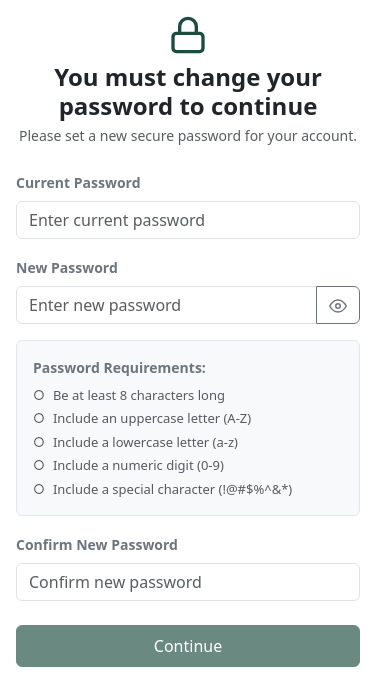
it: ChangePassword Component Tests (UI-03, UI-03b) › UI-03: Real-time password checklist updates checkmarks as password criteria are met
Expected: the element with test id "password-checklist" is shown, x1=16 y1=340 x2=360 y2=516
Expected: the button with test id "change-password-submit-button" is disabled, x1=16 y1=625 x2=360 y2=667
Note: Type 8 chars with upper, lower, number, special: "Password123!"
Type "Password123!" into the password field labelled "New Password" at (166, 305), box x1=16 y1=286 x2=317 y2=324
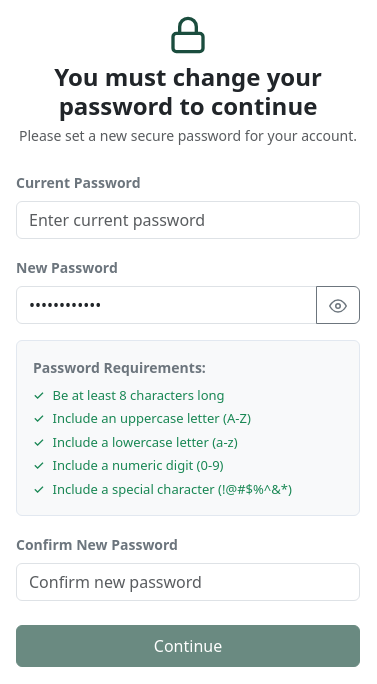
Now the list item with test id "rule-min-length" shows "✓", box x1=33 y1=386 x2=44 y2=404
Now the list item with test id "rule-uppercase" shows "✓", box x1=33 y1=409 x2=44 y2=427
Now the list item with test id "rule-lowercase" shows "✓", box x1=33 y1=433 x2=44 y2=451
